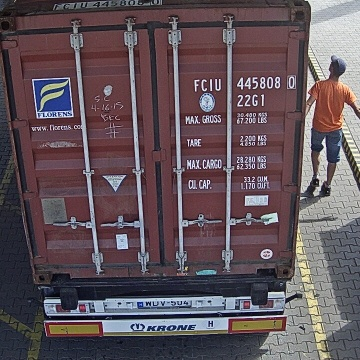serial_id: (194, 76, 296, 91)
